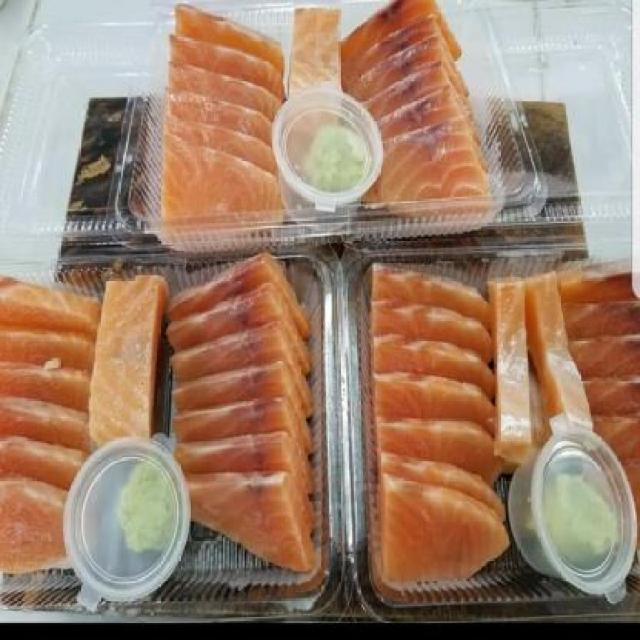salmon: (357, 260, 528, 590), (2, 268, 163, 580), (169, 274, 320, 565), (154, 8, 277, 243), (352, 6, 492, 205), (535, 262, 640, 438)
